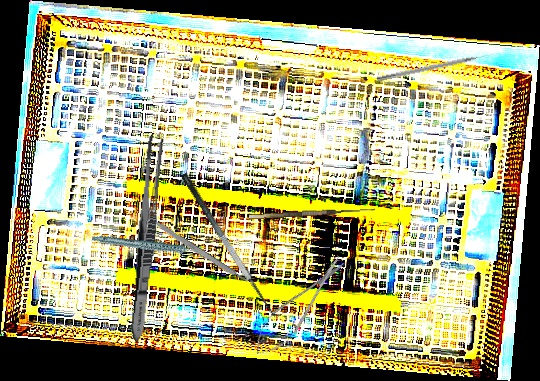Dressing Forceps: (126, 133, 166, 344)
Handpiece: (91, 213, 204, 280)
Hook Surgical: (376, 51, 496, 83), (248, 200, 376, 220)
Micro Scissor: (244, 248, 355, 365)
Scalpel Handle: (148, 216, 250, 287)
Spatula Surgical: (180, 165, 287, 323)
